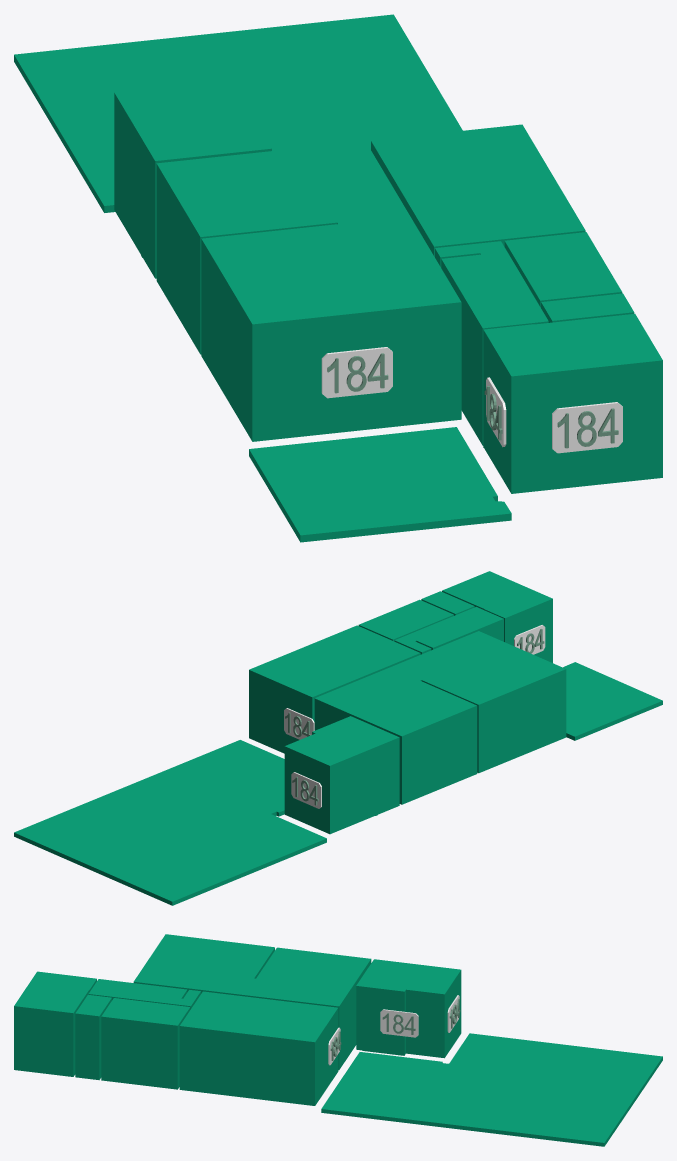
3 views of the same model, one above another, from view 1: azimuth 30°, elevation 25°; view 2: azimuth 150°, elevation 25°; view 3: azimuth 270°, elevation 25° (orthographic). The views are drawn at different scales.
Visible parts, largest first — view 1: g_4, g_8, g_2, g_3, g_9, g_1, g_0, g_5, g_6, g_25, g_29, g_7; view 2: g_8, g_4, g_3, g_0, g_1, g_9, g_2, g_5, g_6, g_7, g_33, g_13; view 3: g_8, g_1, g_0, g_6, g_3, g_2, g_4, g_7, g_5, g_17.
Boxes of the visible parts, x1,y1,x2,y2 form: g_4: [201, 216, 461, 441]; g_8: [14, 14, 462, 212]; g_2: [483, 314, 662, 493]; g_3: [156, 141, 409, 354]; g_9: [249, 427, 511, 542]; g_1: [371, 124, 585, 256]; g_0: [114, 81, 271, 278]; g_5: [435, 241, 548, 445]; g_6: [504, 232, 622, 307]; g_25: [321, 347, 392, 398]; g_29: [552, 402, 622, 453]; g_7: [541, 293, 634, 322]; g_8: [14, 740, 326, 905]; g_4: [391, 631, 566, 773]; g_3: [314, 667, 477, 804]; g_0: [284, 716, 399, 834]; g_1: [249, 625, 420, 753]; g_9: [563, 662, 662, 740]; g_2: [442, 571, 552, 662]; g_5: [394, 607, 503, 654]; g_6: [358, 599, 453, 641]; g_7: [421, 591, 474, 615]; g_33: [291, 772, 321, 808]; g_13: [284, 708, 314, 739]; g_8: [321, 1033, 662, 1146]; g_1: [179, 991, 338, 1105]; g_0: [356, 959, 461, 1058]; g_6: [101, 998, 190, 1089]; g_3: [243, 947, 371, 1070]; g_2: [14, 971, 96, 1076]; g_4: [133, 934, 274, 996]; g_7: [75, 994, 111, 1080]; g_5: [88, 979, 200, 1009]; g_17: [380, 1009, 418, 1037].
Bounding box in the file's own units: 13.36 × 2.65 × 22.87.
